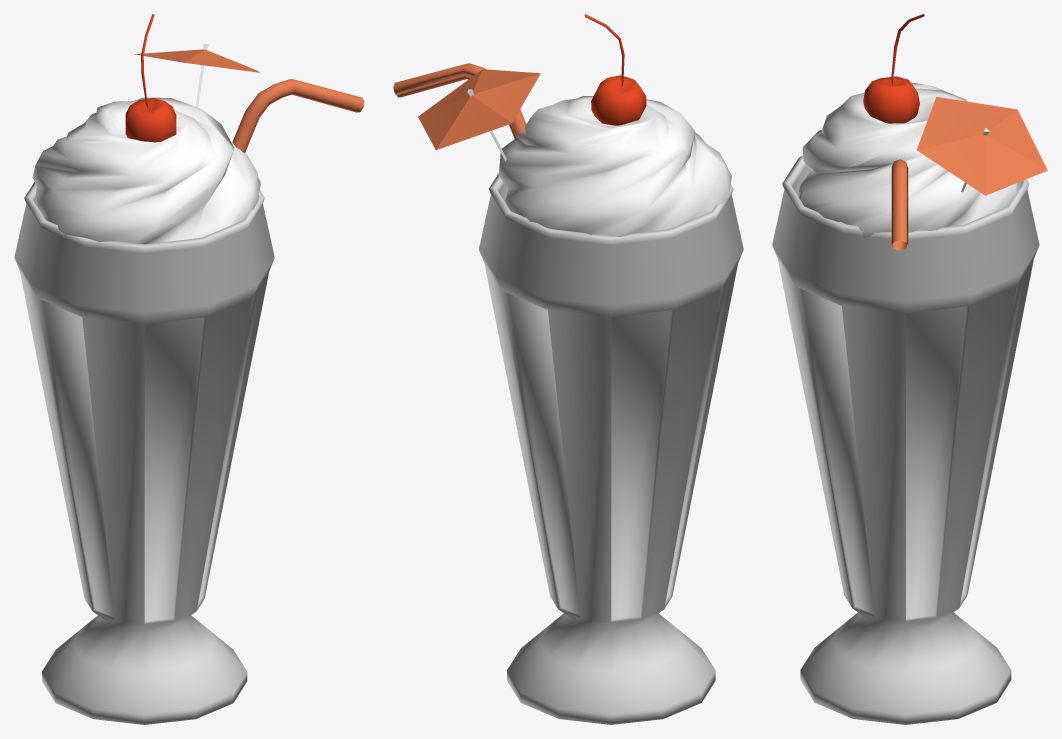
File: vanilla_milkshake.glb
The picture shows the model from 3 angles, left to right: view 1: azimuth 30°, elevation 25°; view 2: azimuth 150°, elevation 25°; view 3: azimuth 270°, elevation 25°; orthographic projection. The views are drawn at different scales.
Parts seen in each view (by area): view 1: Cylinder_2, Icosphere_3, Cylinder.001_4, Sphere_5, Cone_7; view 2: Cylinder_2, Icosphere_3, Cone_7, Sphere_5, Cylinder.001_4; view 3: Cylinder_2, Icosphere_3, Cone_7, Sphere_5, Cylinder.001_4.
Boxes of the visible parts, box(x1,y1,x2,y2) form: Cylinder_2: box(14, 182, 274, 724); Icosphere_3: box(32, 97, 260, 244); Cylinder.001_4: box(232, 79, 364, 152); Sphere_5: box(125, 14, 176, 142); Cone_7: box(135, 49, 259, 72); Cylinder_2: box(479, 174, 743, 724); Icosphere_3: box(498, 96, 731, 236); Cone_7: box(418, 69, 540, 150); Sphere_5: box(584, 14, 646, 125); Cylinder.001_4: box(393, 63, 526, 139); Cylinder_2: box(772, 156, 1039, 724); Icosphere_3: box(797, 83, 1023, 237); Cone_7: box(916, 97, 1047, 195); Sphere_5: box(863, 14, 924, 123); Cylinder.001_4: box(891, 159, 908, 250).
Bounding box in the file's own units: 86.25 × 165 × 61.13.
